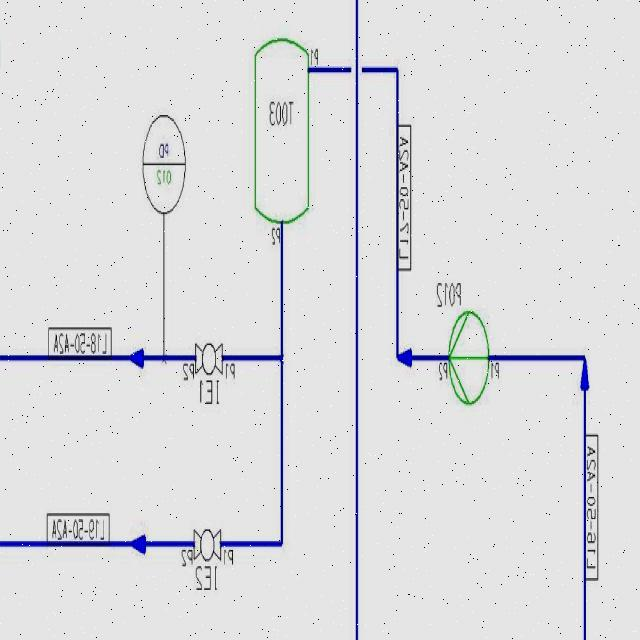Ball Valve: (193, 506, 226, 572), (193, 336, 224, 378)
